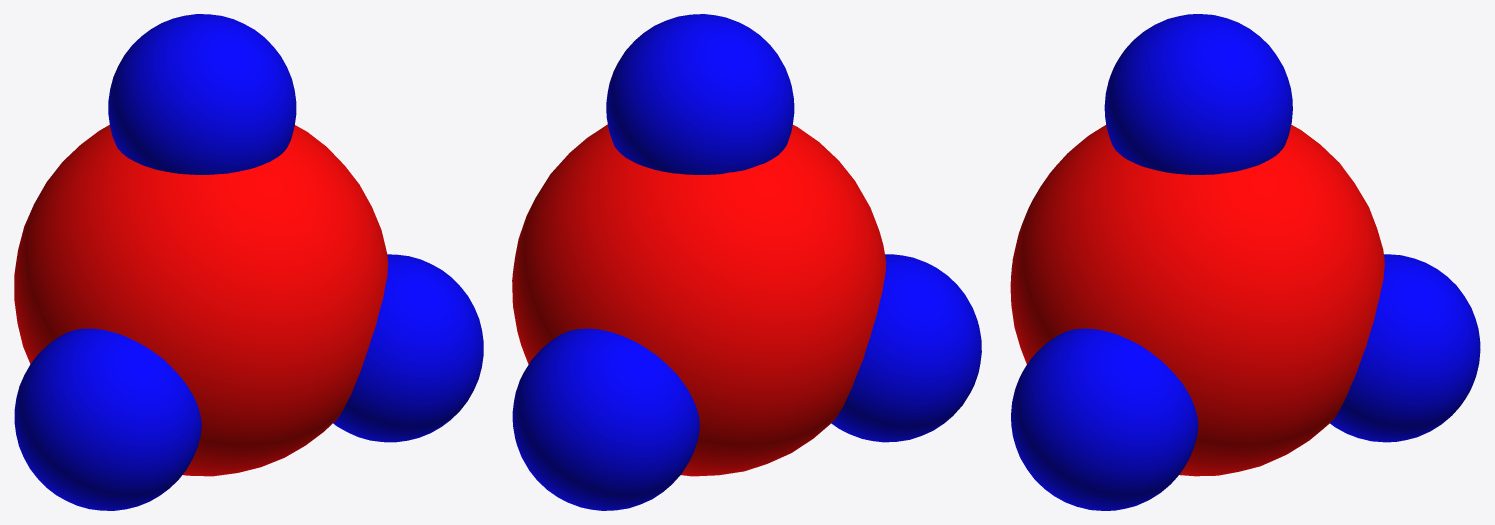
File: tetrahedral_space.glb
3 renders of one model, left to right at view 1: azimuth 30°, elevation 25°; view 2: azimuth 150°, elevation 25°; view 3: azimuth 270°, elevation 25°, orthographic.
Parts seen in each view (by area): view 1: tetrahedral_space; view 2: tetrahedral_space; view 3: tetrahedral_space.
Boxes of the visible parts, x1,y1,x2,y2 form: tetrahedral_space: (14, 14, 483, 510); tetrahedral_space: (512, 14, 981, 510); tetrahedral_space: (1010, 14, 1480, 510).
Size of the model in its own units: 3.27 by 3.06 by 2.99.
